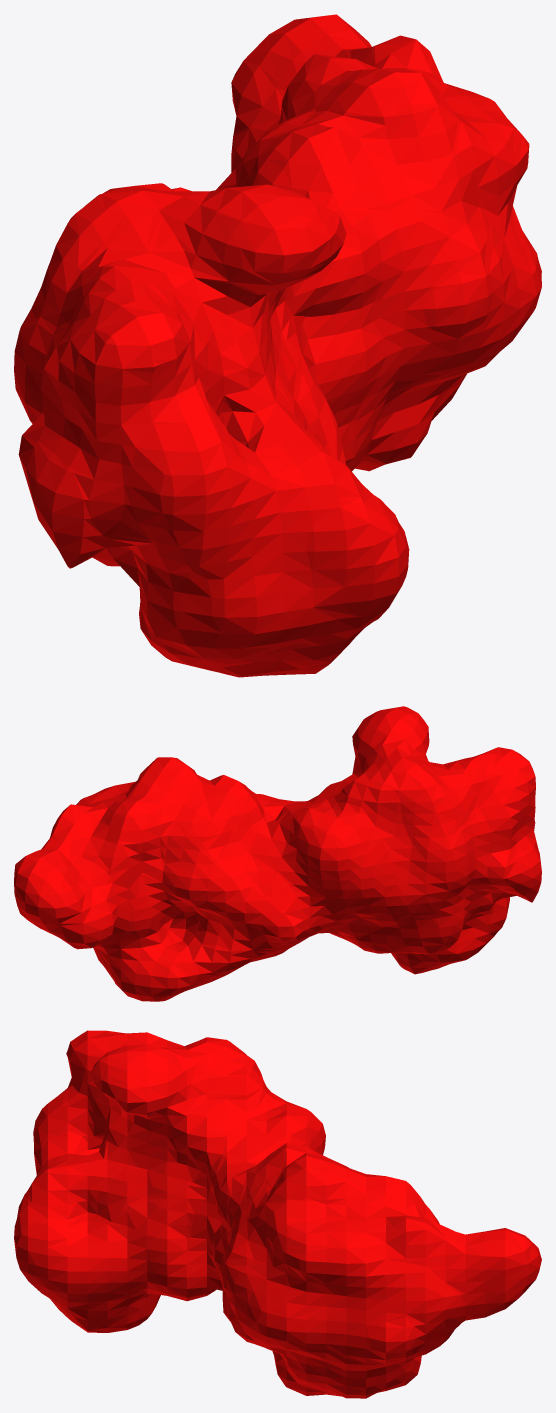
Rendered from yejF_coarse.dae.
The picture shows the model from 3 angles, top to bottom: view 1: azimuth 30°, elevation 25°; view 2: azimuth 150°, elevation 25°; view 3: azimuth 270°, elevation 25°; orthographic projection. The views are drawn at different scales.
Parts seen in each view (by area): view 1: yejF; view 2: yejF; view 3: yejF.
Part boxes in pixels (left/top/right/bottom): yejF: left=14, top=14, right=541, bottom=677; yejF: left=14, top=706, right=541, bottom=1001; yejF: left=14, top=1030, right=541, bottom=1398.
Size of the model in its own units: 88.63 by 58.29 by 97.33.
